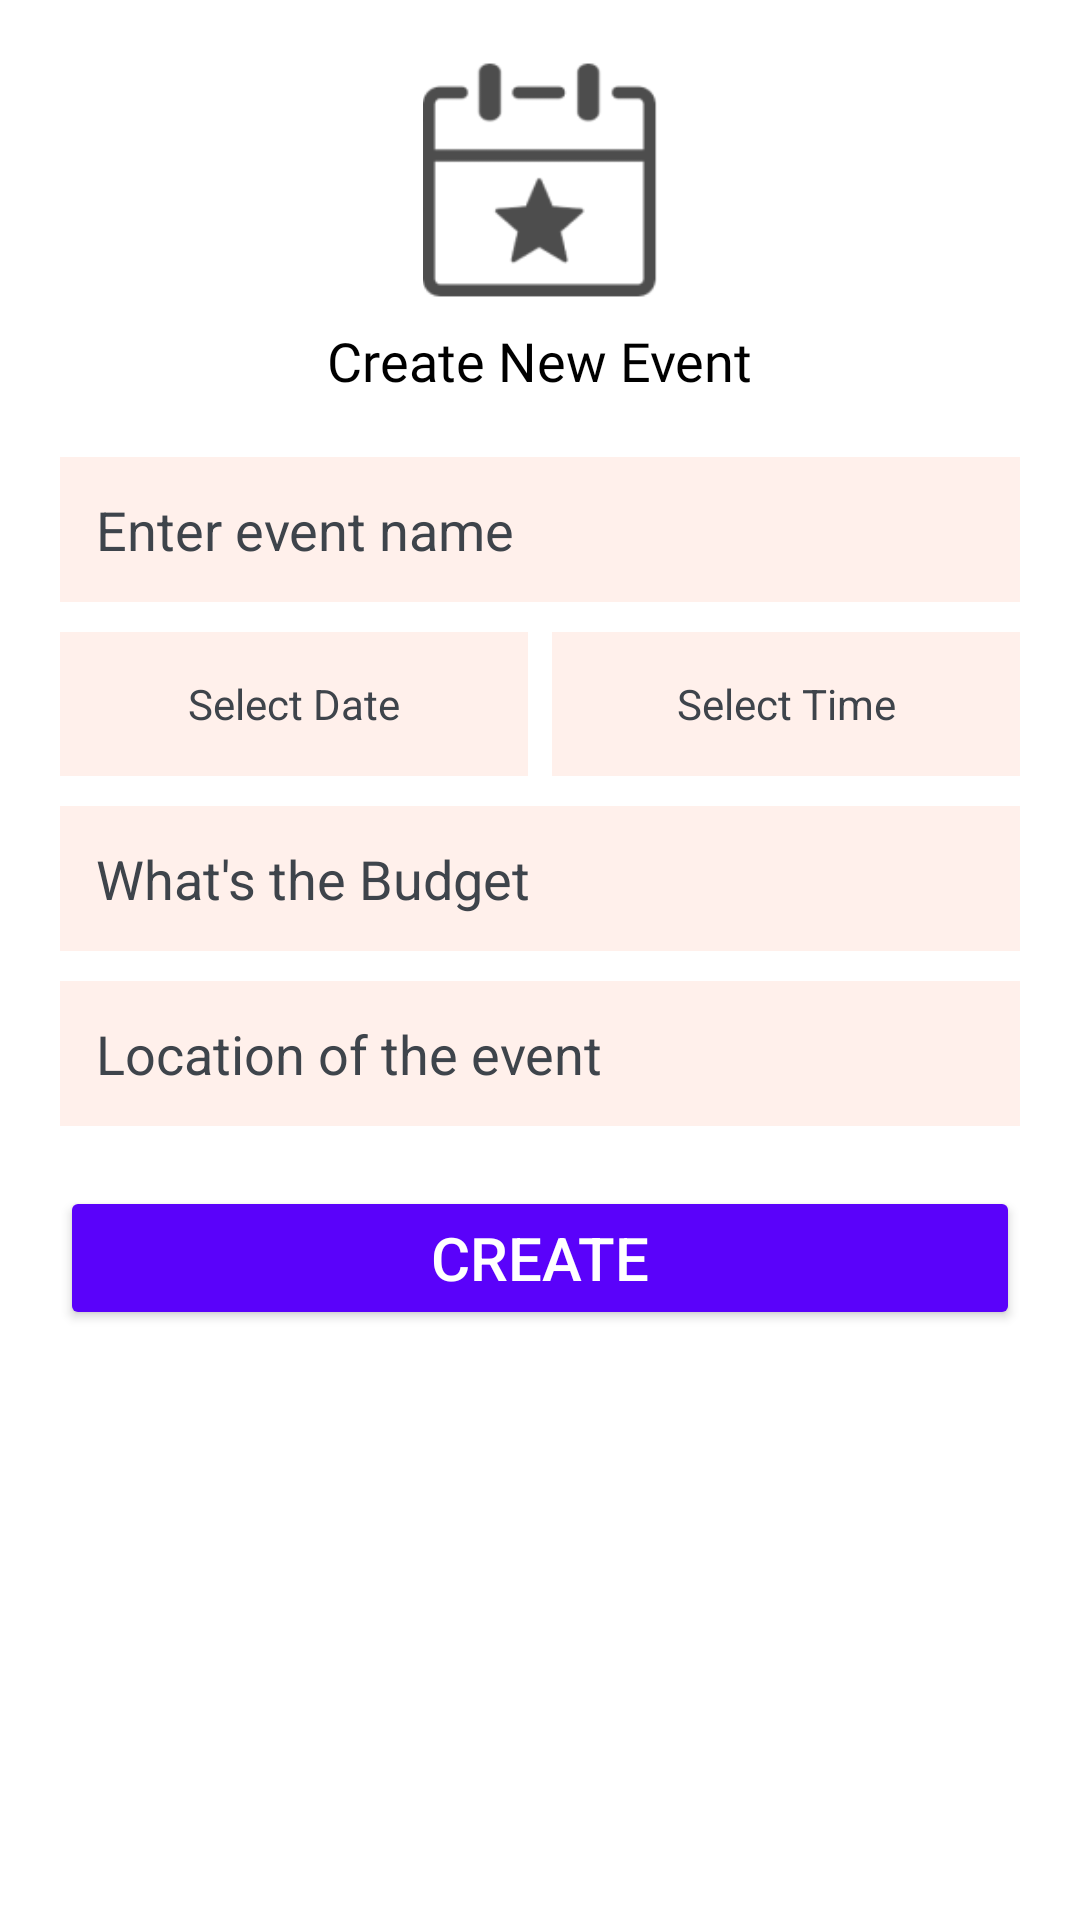

Point at icon controls on the screen. Image size 1080 x 1920, points as point (x, y).
Default Event Icon: point (539, 180)
